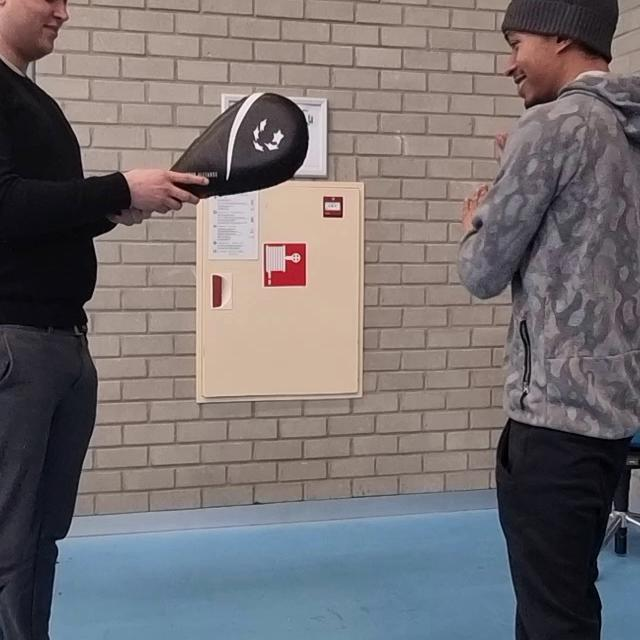paddle: (168, 91, 309, 198)
